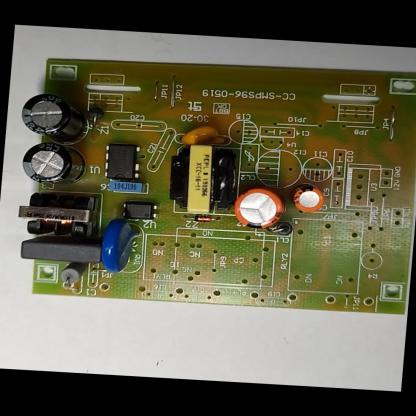Cap1: (231, 186, 285, 230)
Cap2: (292, 186, 326, 214)
Cap3: (18, 140, 87, 185)
Cap4: (18, 90, 94, 146)
MOSFET: (100, 142, 143, 182)
Mov: (98, 215, 141, 276)
Resistor: (57, 259, 89, 286)
Transformer: (165, 142, 243, 218), (14, 190, 105, 240)
